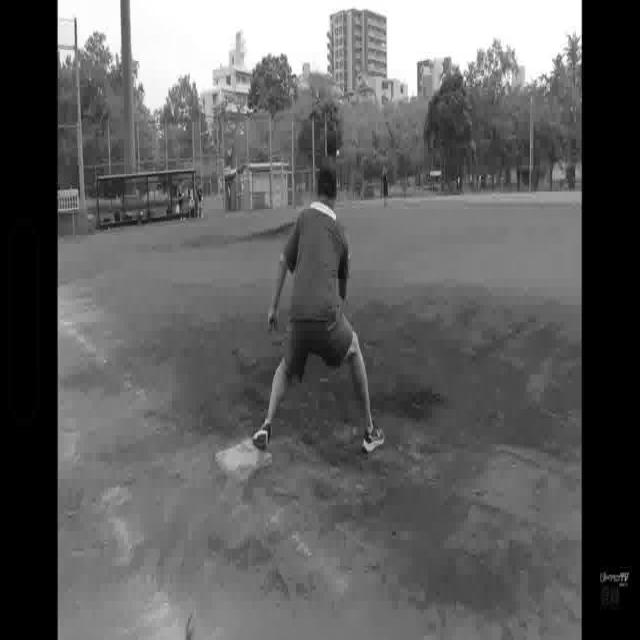base: (216, 436, 272, 486)
baseball: (336, 148, 340, 158)
shoe: (253, 414, 274, 452), (360, 428, 384, 456)
